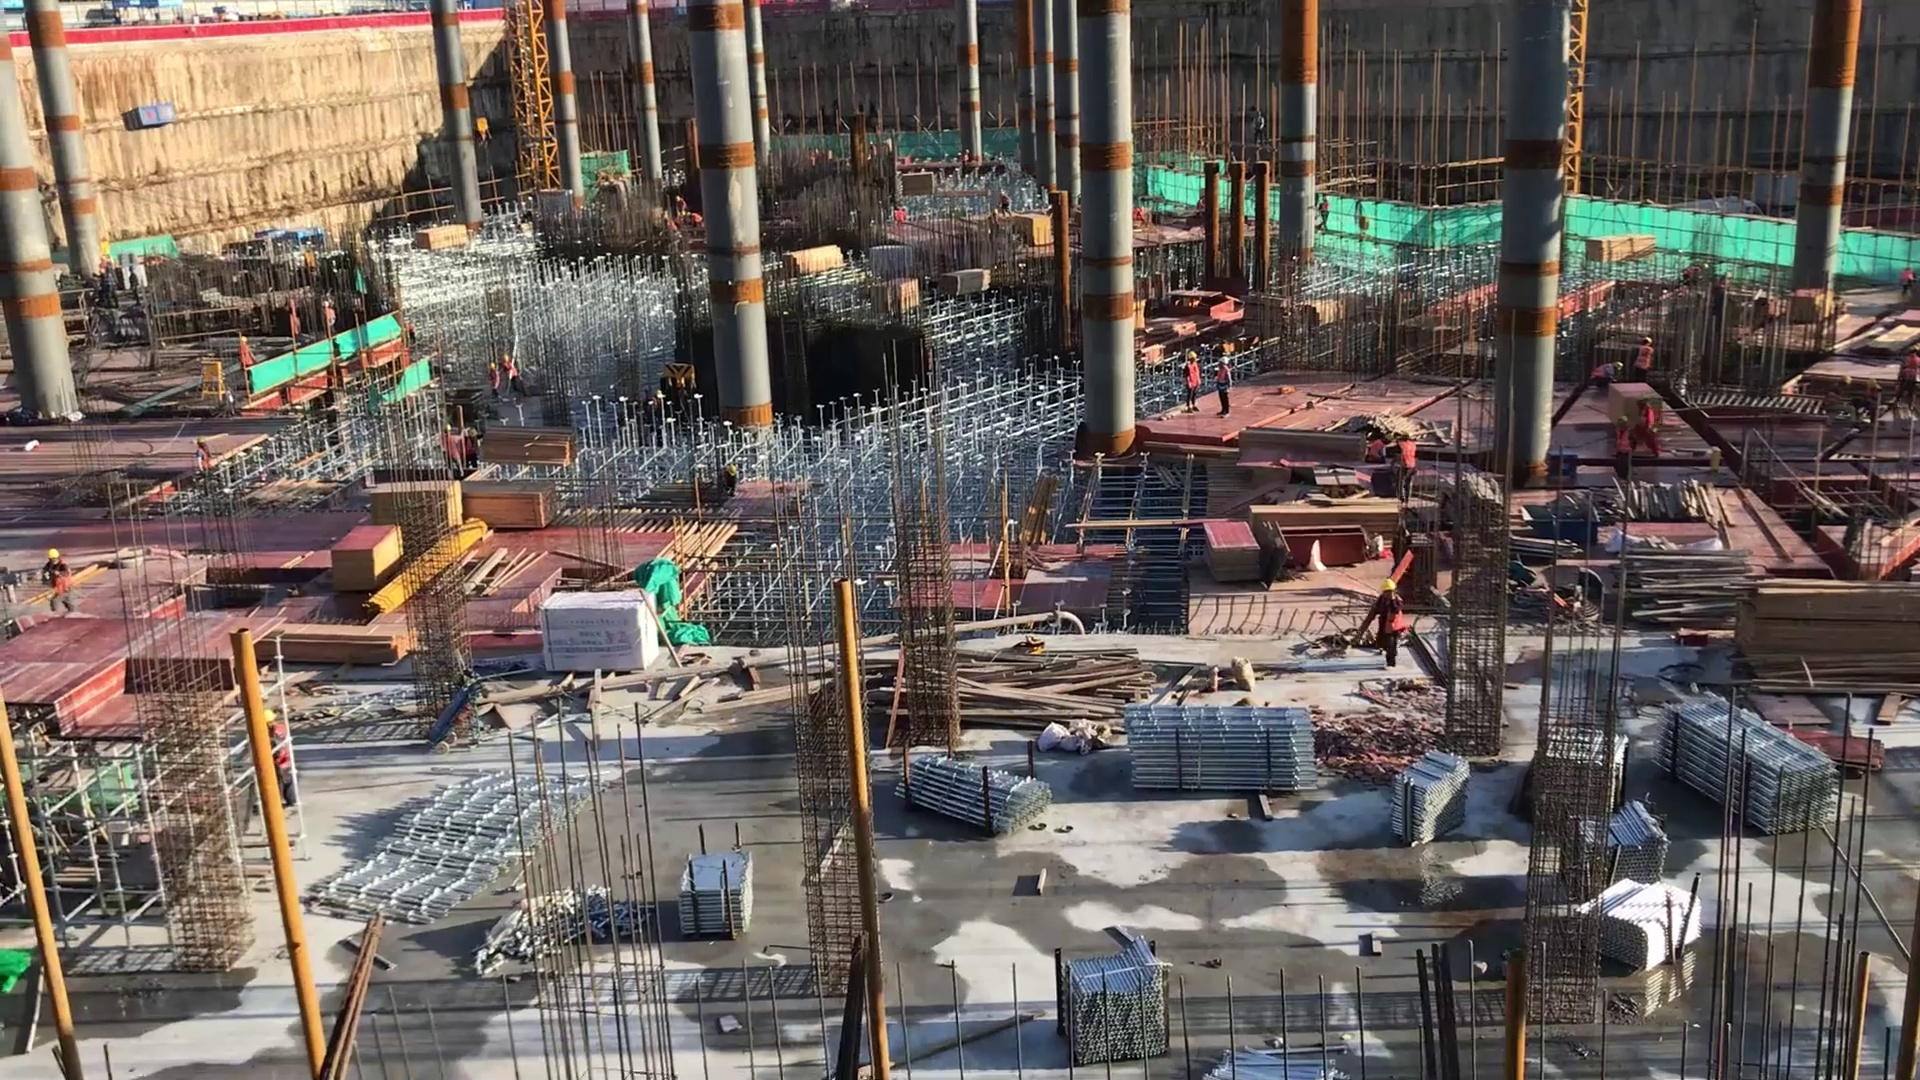board: (369, 480, 464, 537), (331, 518, 402, 593), (1783, 726, 1890, 772), (1203, 516, 1261, 583)
ebox: (200, 360, 229, 397)
helmet: (262, 704, 280, 728), (1380, 578, 1399, 595), (195, 435, 209, 448), (48, 547, 59, 562), (466, 428, 480, 441), (1188, 349, 1200, 362), (1220, 353, 1230, 366), (237, 335, 248, 346), (489, 363, 500, 369), (674, 195, 681, 202)
hook: (466, 106, 500, 150), (661, 366, 702, 395)
hopper: (119, 99, 181, 134)
person: (255, 704, 304, 817), (1373, 576, 1412, 678), (38, 542, 71, 627), (1632, 394, 1661, 464), (1388, 432, 1419, 497), (1179, 347, 1203, 418), (1898, 345, 1920, 419), (1361, 427, 1396, 473), (1611, 413, 1632, 487), (1214, 354, 1237, 420), (1589, 360, 1626, 399), (500, 355, 529, 405), (439, 423, 463, 482), (233, 333, 260, 378), (312, 300, 340, 342), (483, 354, 504, 405), (1635, 336, 1658, 383), (1899, 262, 1918, 314), (1246, 109, 1269, 149), (196, 432, 214, 480), (1316, 193, 1332, 235), (465, 425, 478, 468), (671, 195, 688, 216), (688, 212, 702, 231)
scaffold: (1647, 694, 1839, 842), (1125, 709, 1337, 799), (1054, 930, 1175, 1071), (901, 751, 1052, 848), (1573, 806, 1672, 898), (1394, 751, 1469, 857)
vest: (268, 720, 298, 787), (1396, 440, 1417, 473), (1591, 360, 1613, 386), (1184, 362, 1202, 392), (1637, 344, 1654, 374), (1366, 441, 1387, 464), (1614, 427, 1630, 459), (1217, 367, 1234, 396), (238, 344, 255, 370), (1905, 354, 1920, 382), (466, 437, 478, 459)
wood: (1741, 573, 1920, 699), (1615, 543, 1755, 631), (958, 646, 1143, 709), (253, 621, 411, 669), (1250, 497, 1405, 539), (458, 476, 561, 531), (480, 425, 578, 465), (781, 241, 846, 281), (1587, 233, 1659, 264), (412, 221, 469, 254), (940, 265, 989, 297)
